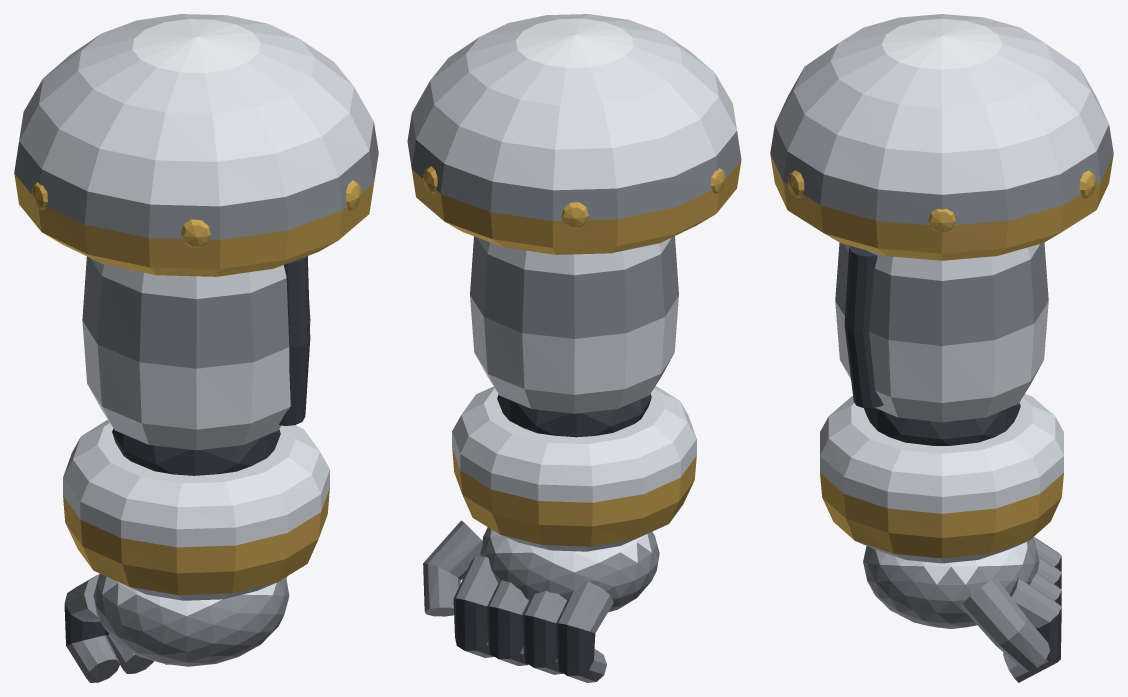
The model's file is GolemArm.obj.
3 views of the same model, side by side, from view 1: azimuth 30°, elevation 25°; view 2: azimuth 150°, elevation 25°; view 3: azimuth 270°, elevation 25° (orthographic). The views are drawn at different scales.
Bounding box in the file's own units: 0.752 × 1.47 × 0.74.
